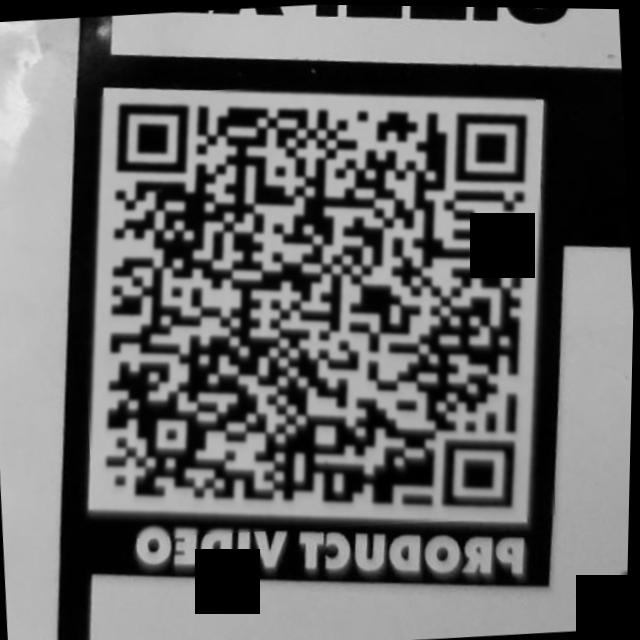QR_CODE: (65, 65, 565, 545)
